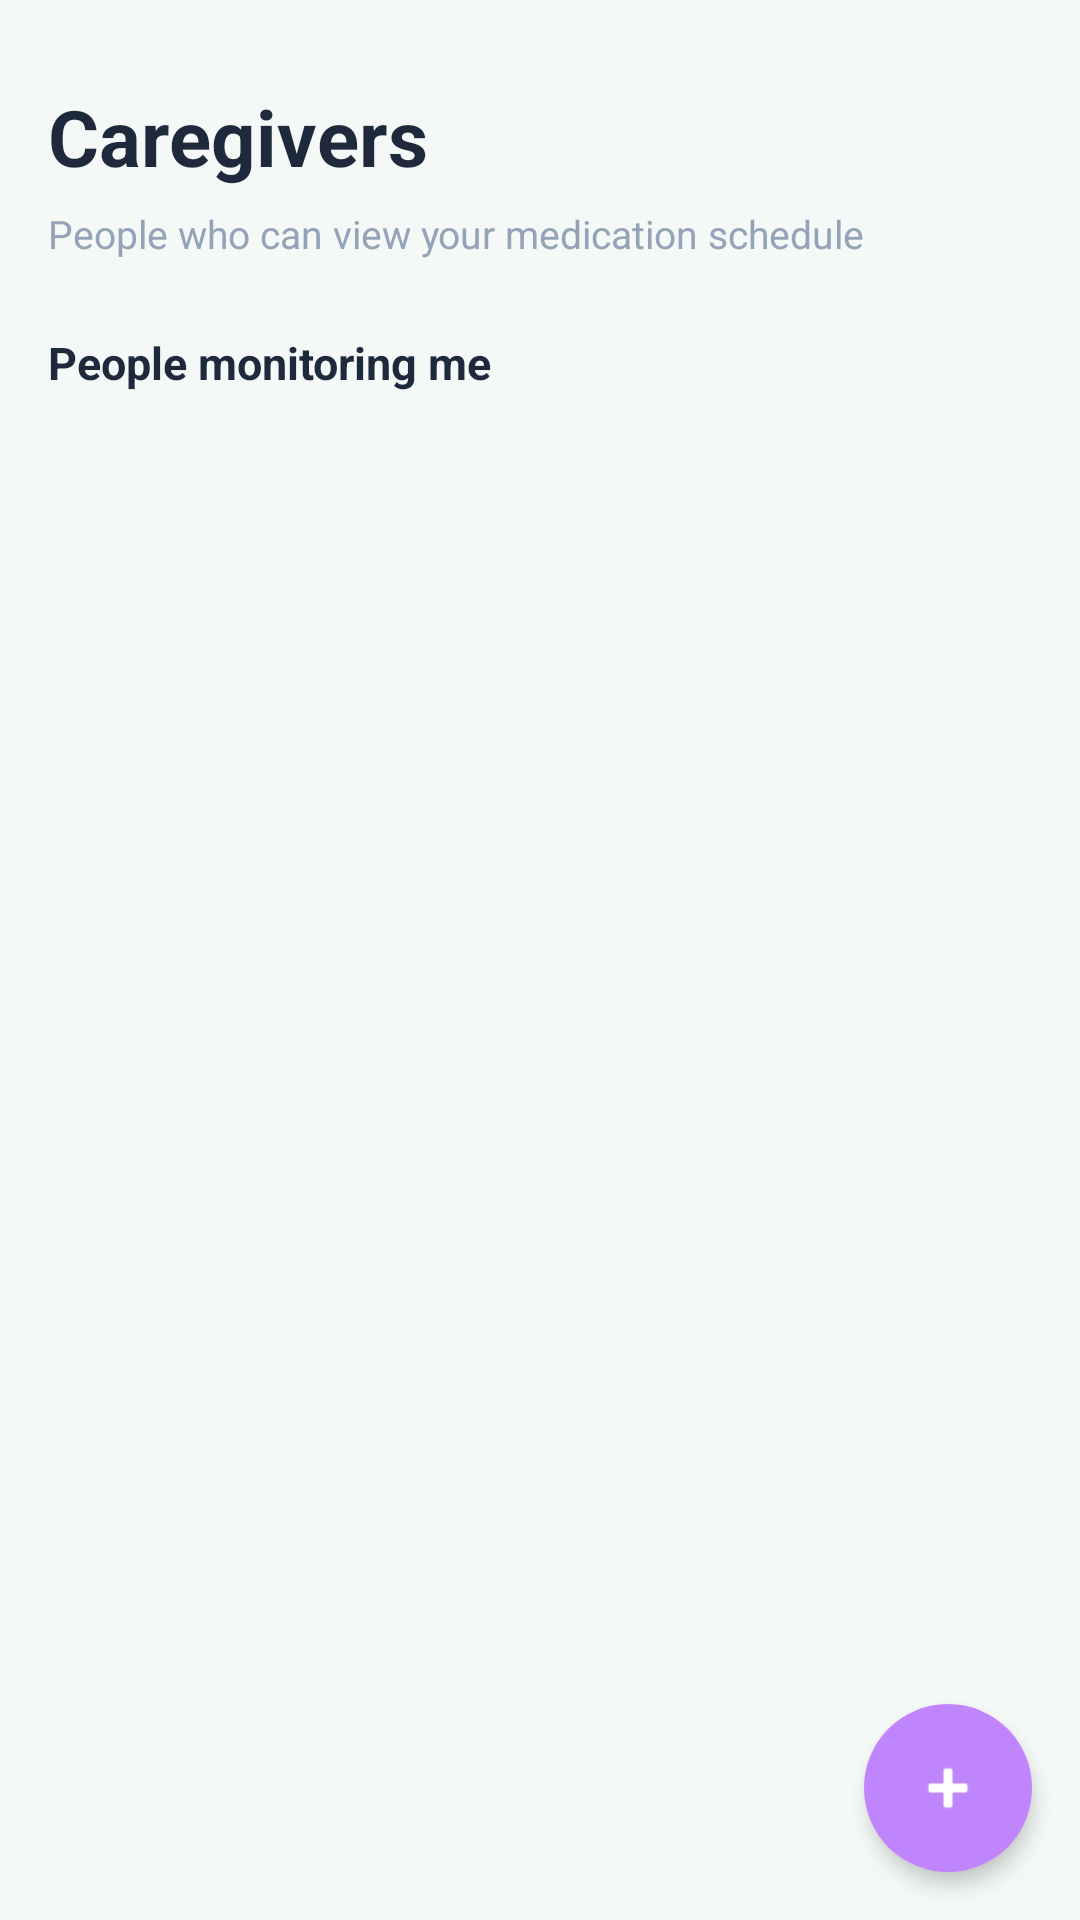

Named icons in this screenshot (1080×1920) and their bounding boxes, (x1, y1, x2, y2):
Invite caregiver: (864, 1704, 1032, 1872)
